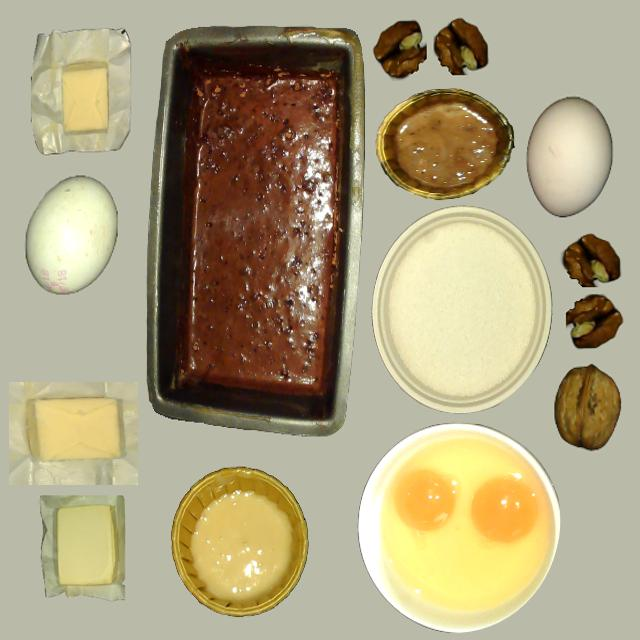Egg: (470, 477, 538, 542), (394, 470, 458, 532)
Sugar: (386, 217, 538, 401)
Walnut: (554, 366, 620, 448)
